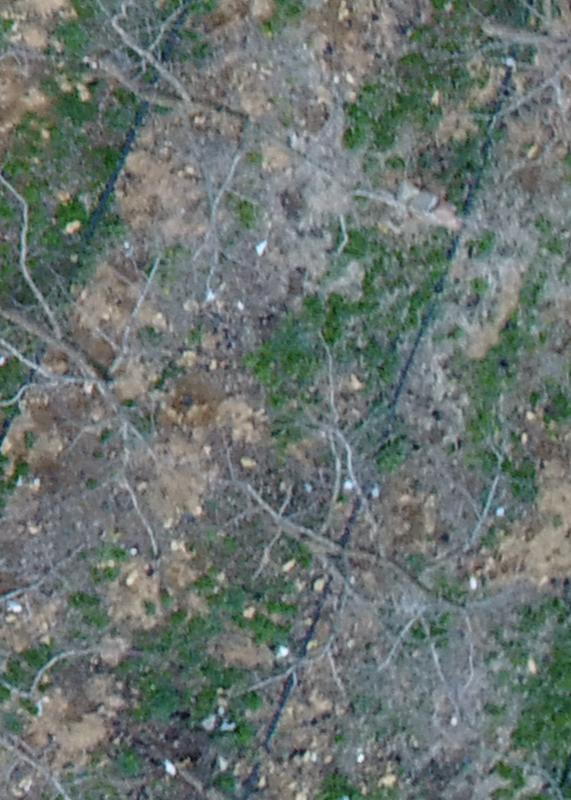apple: (217, 325, 517, 702), (10, 243, 184, 558), (19, 10, 282, 167)
